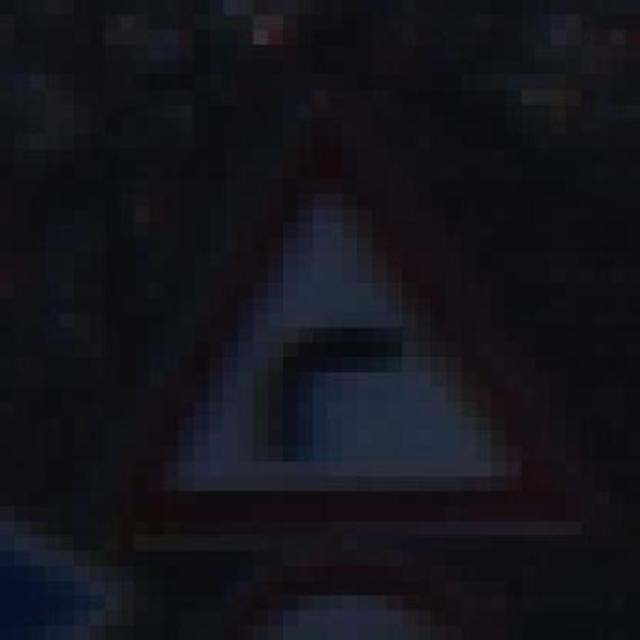Dangerous Rright Curve Ahead: (119, 134, 596, 551)
